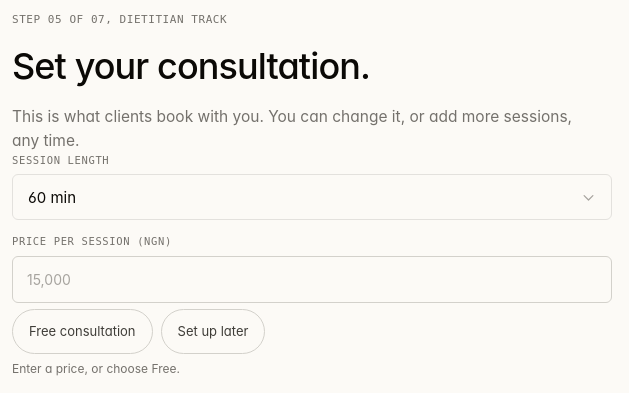
dietitian consultation step › makes Free an explicit choice that disables the price and saves 0
Click the switch labelled "Free consultation": (82, 332) [12, 309, 152, 354]
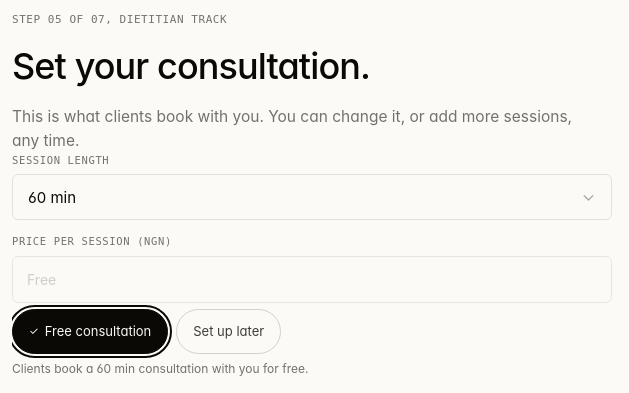
Expected: the field labelled "Price per session (NGN)" is disabled, [12, 256, 612, 303]
Expected: the text "Clients book a 60 min consultation with you for free." is shown, [12, 362, 308, 376]
